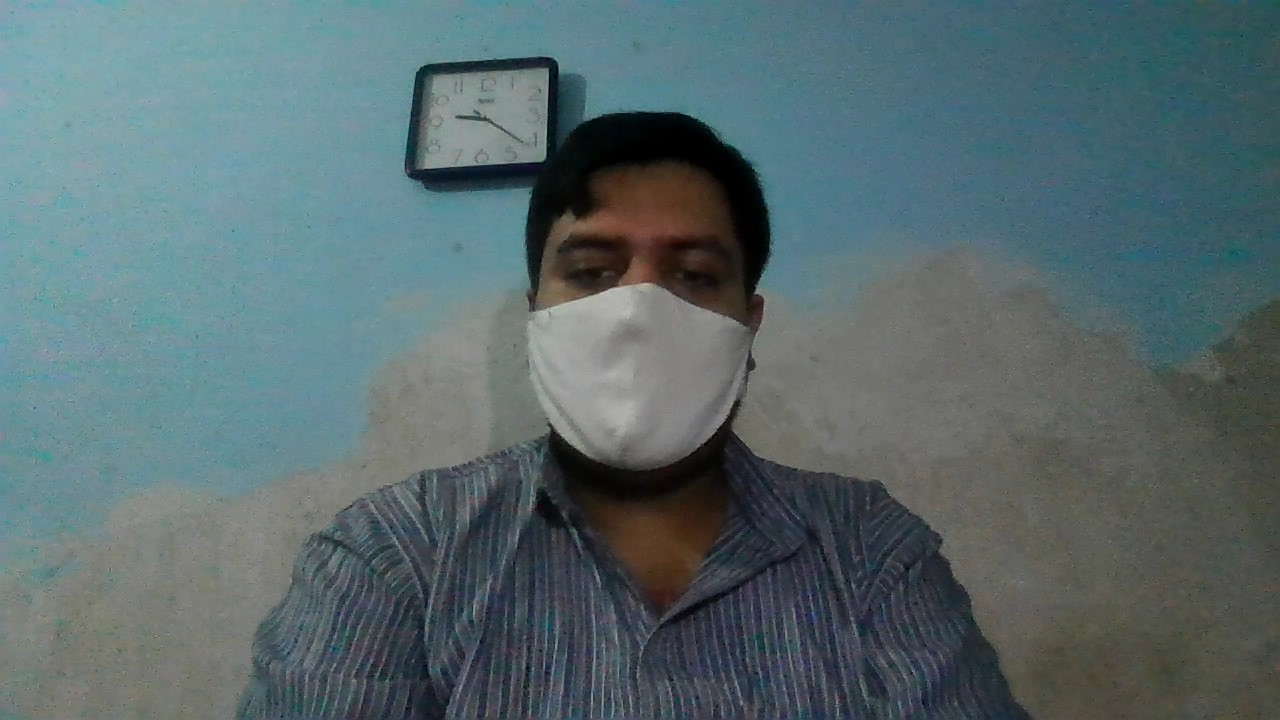Mask: (519, 282, 758, 473)
